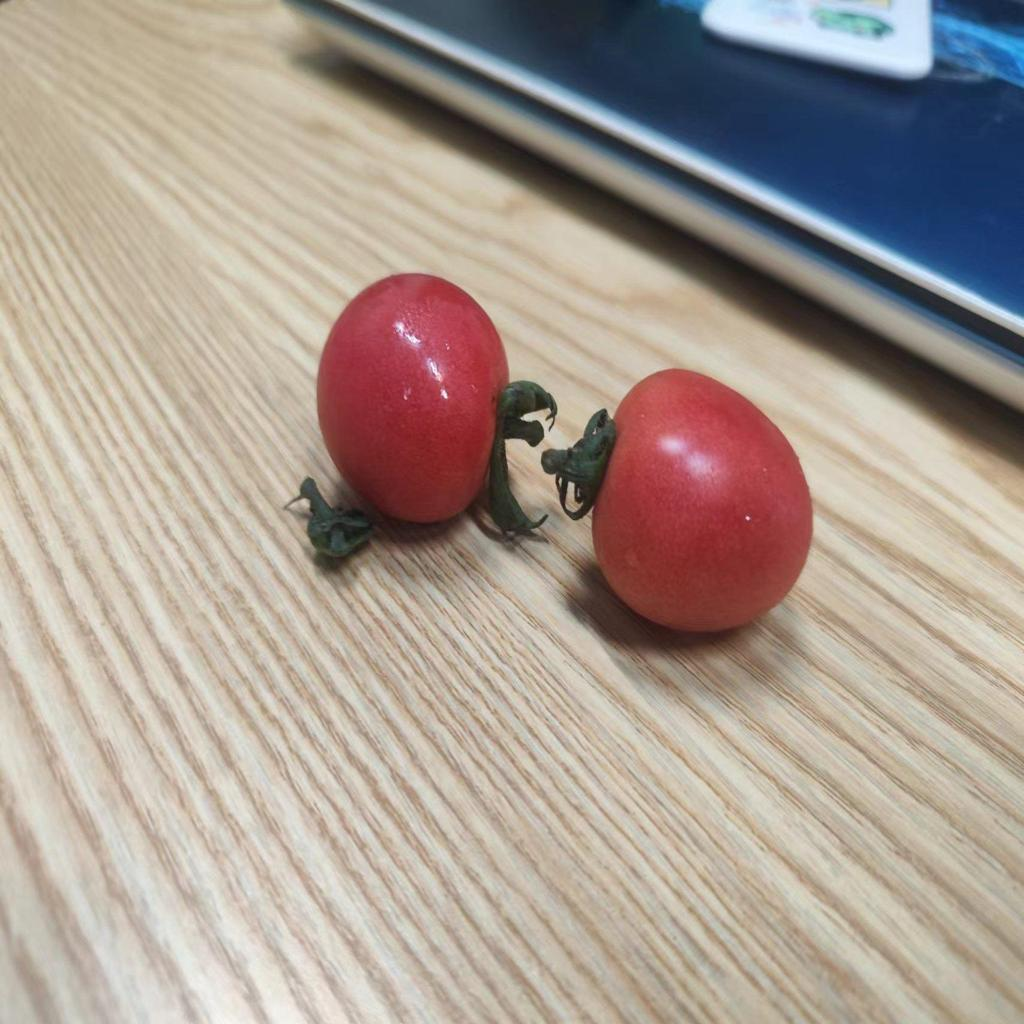tomato: (582, 364, 817, 639), (312, 277, 518, 523)
